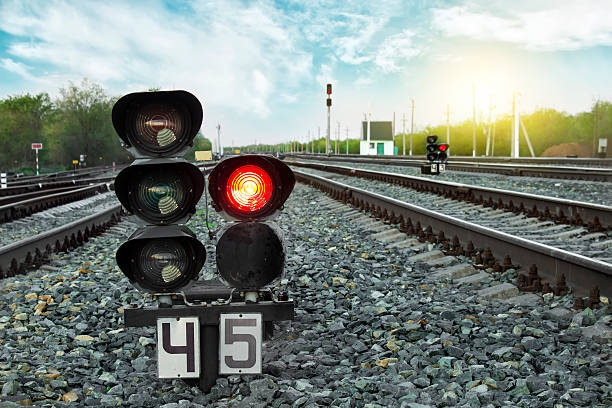Stop Signal: (24, 137, 50, 155)
Traffic Signal: (102, 74, 209, 291), (211, 147, 297, 287), (416, 127, 463, 165), (323, 77, 338, 113)
